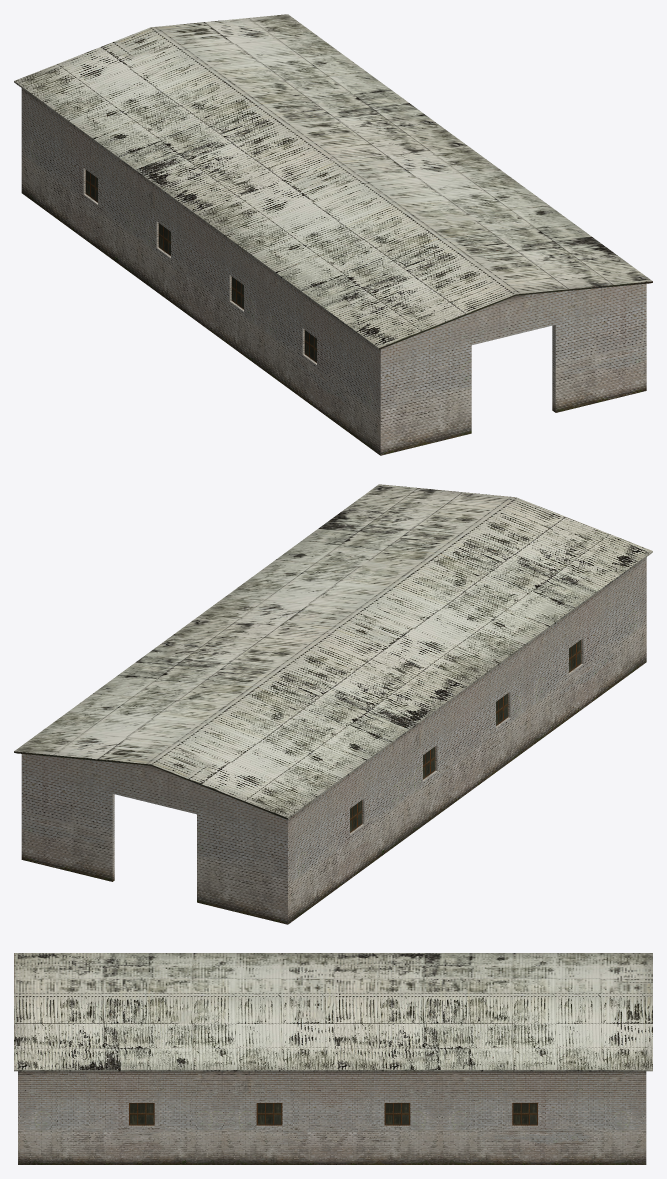
The model's file is hangar1.FBX.
The picture shows the model from 3 angles, top to bottom: view 1: azimuth 30°, elevation 25°; view 2: azimuth 150°, elevation 25°; view 3: azimuth 270°, elevation 25°; orthographic projection. The views are drawn at different scales.
Visible parts, largest first — view 1: Box001; view 2: Box001; view 3: Box001.
Part boxes in pixels (<box>): Box001: <box>14,14,652,455</box>; Box001: <box>14,484,652,924</box>; Box001: <box>14,953,652,1164</box>.
Size of the model in its own units: 13 by 5.92 by 30.
Materials: 1 (1 with a texture image).
